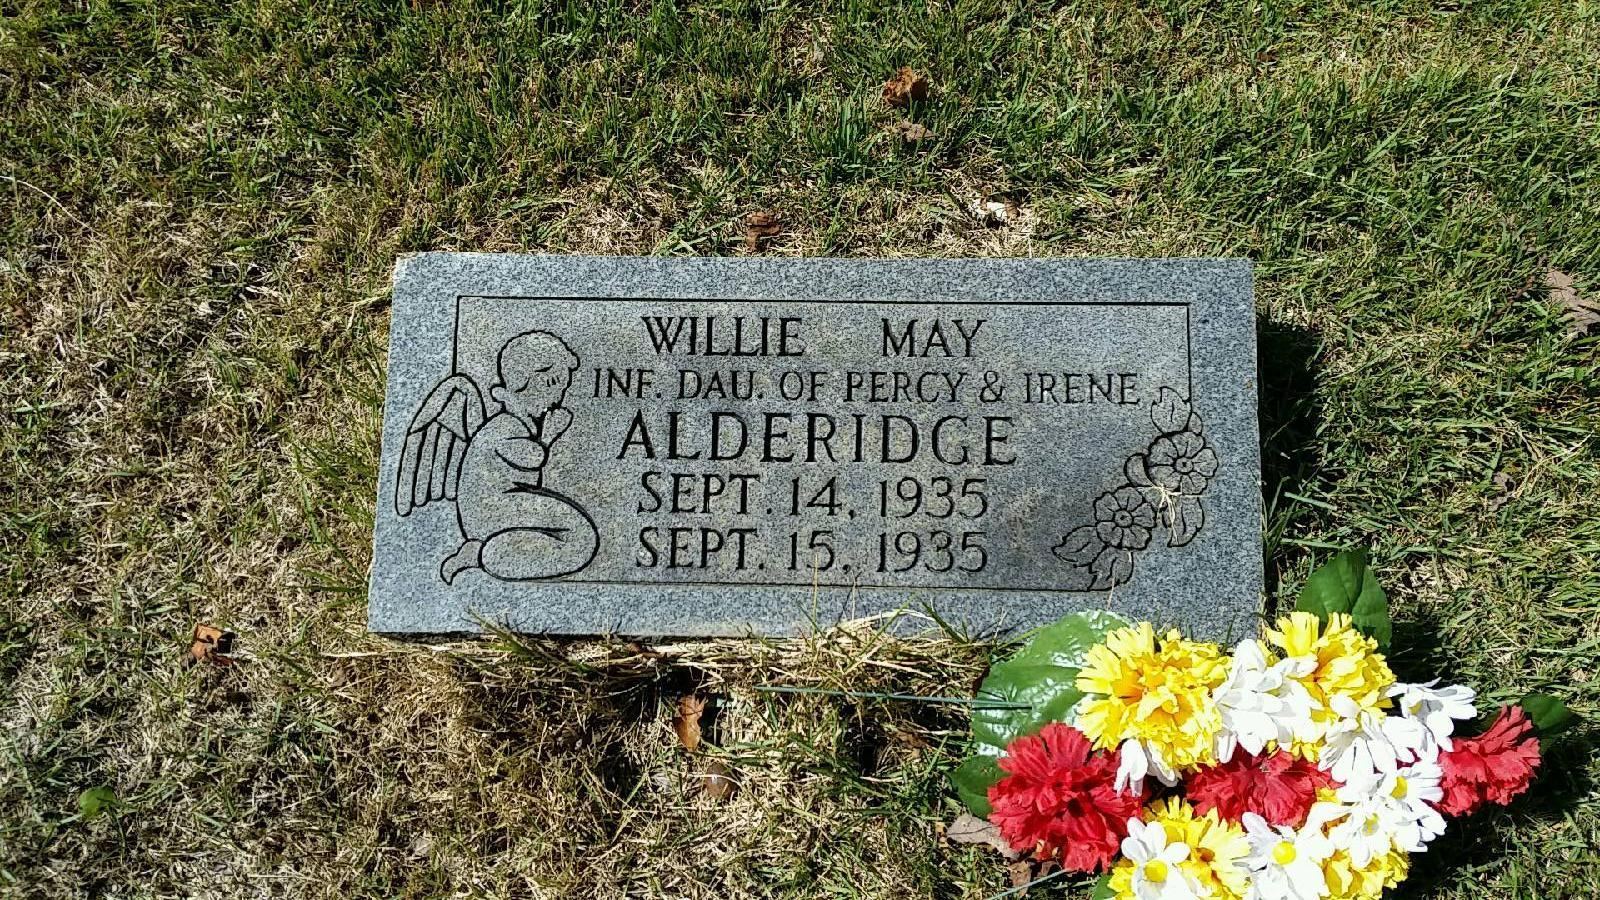flat: (377, 226, 1285, 652)
